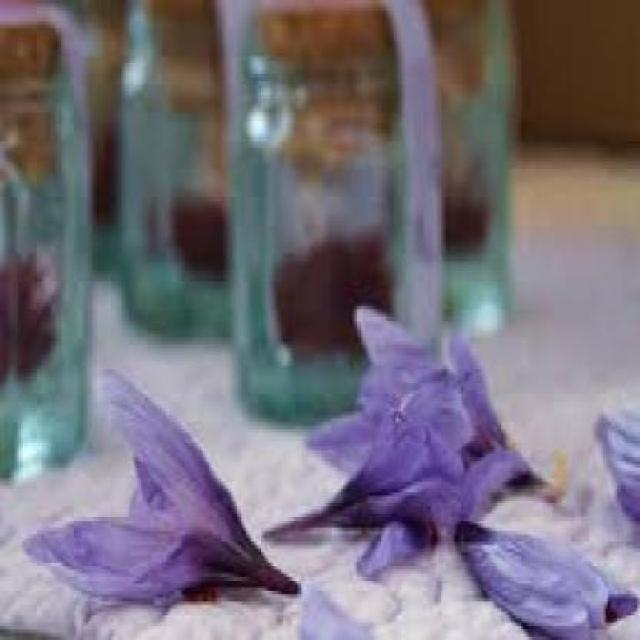saffron open: (25, 371, 298, 607), (266, 369, 529, 576), (458, 521, 638, 640)
